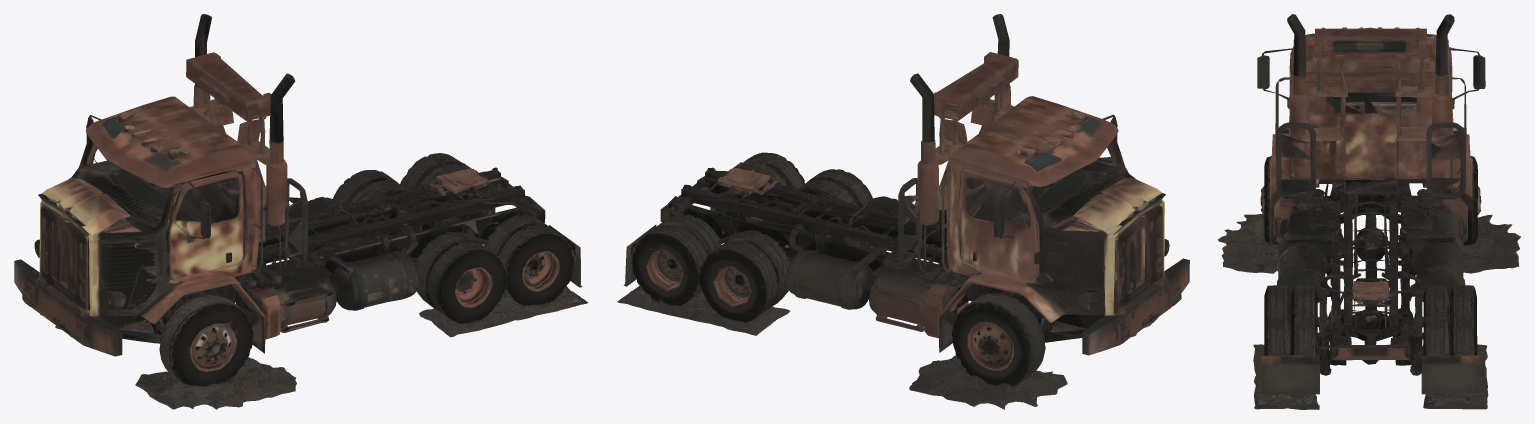
File: ash-wreck.glb
The picture shows the model from 3 angles, left to right: view 1: azimuth 30°, elevation 25°; view 2: azimuth 150°, elevation 25°; view 3: azimuth 270°, elevation 25°; orthographic projection. The views are drawn at different scales.
Parts seen in each view (by area): view 1: ash-wreck-Mesh_0.014; view 2: ash-wreck-Mesh_0.014; view 3: ash-wreck-Mesh_0.014.
Boxes of the visible parts, x1,y1,x2,y2 form: ash-wreck-Mesh_0.014: (14, 14, 588, 409); ash-wreck-Mesh_0.014: (617, 14, 1189, 409); ash-wreck-Mesh_0.014: (1218, 14, 1520, 409).
Bounding box in the file's own units: 5 × 2.84 × 2.92.
Materials: 1 (1 with a texture image).
